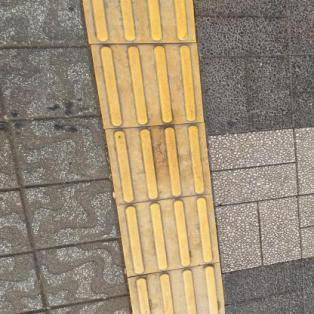Podoctatil: (72, 0, 232, 313)
